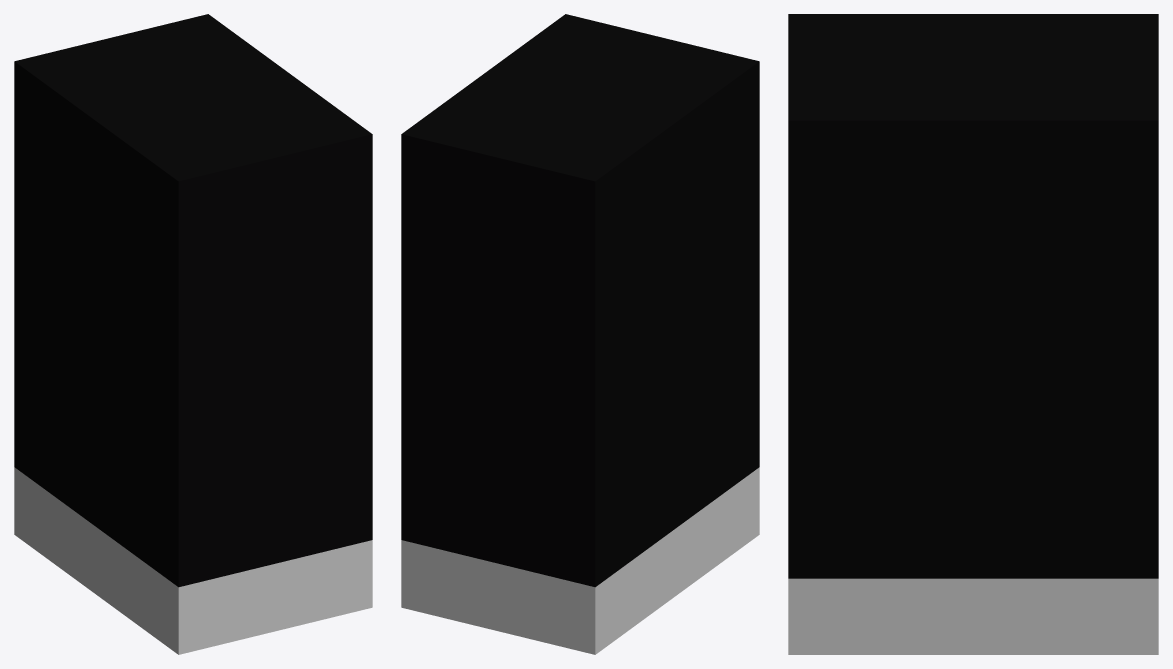
Rendered from coolboy-2.obj.
3 views of the same model, side by side, from view 1: azimuth 30°, elevation 25°; view 2: azimuth 150°, elevation 25°; view 3: azimuth 270°, elevation 25° (orthographic). The views are drawn at different scales.
Size of the model in its own units: 1.5 by 3.5 by 2.2.
Materials: 1 (1 with a texture image).
